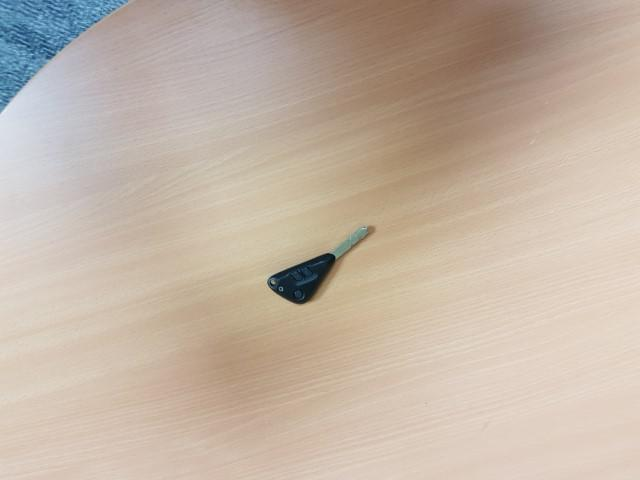key: (264, 226, 373, 309)
